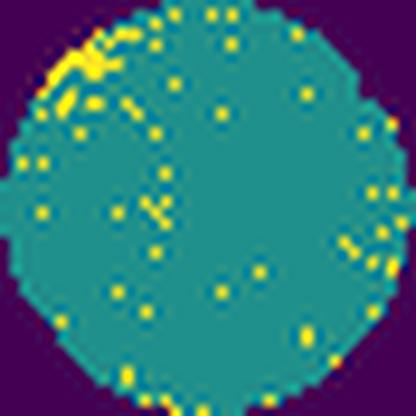Edge-Loc: (39, 22, 150, 104)
